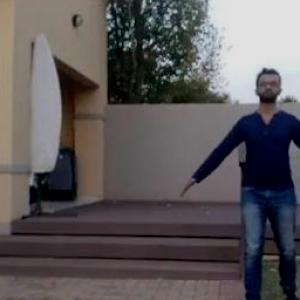land: (180, 74, 300, 299)
